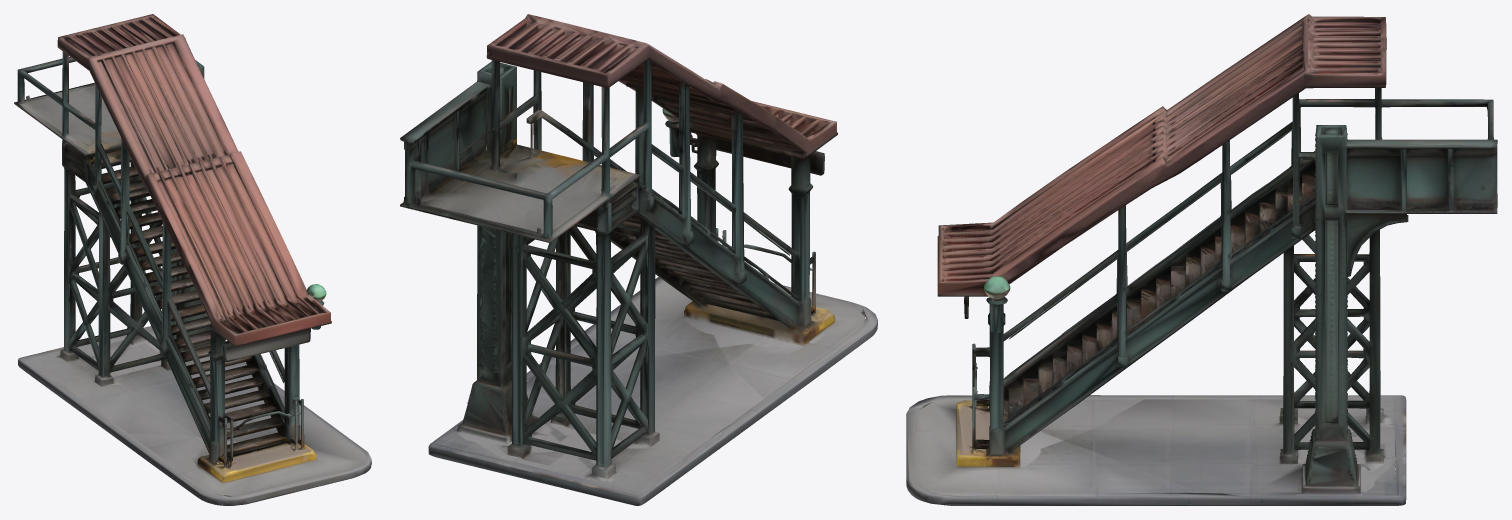
The model's file is el_street_stair.glb.
3 views of the same model, side by side, from view 1: azimuth 30°, elevation 25°; view 2: azimuth 150°, elevation 25°; view 3: azimuth 270°, elevation 25° (orthographic). The views are drawn at different scales.
Visible parts, largest first — view 1: node_0; view 2: node_0; view 3: node_0.
Part boxes in pixels (<box>): node_0: <box>14,14,371,505</box>; node_0: <box>400,14,877,505</box>; node_0: <box>906,14,1497,505</box>.
Bounding box in the file's own units: 0.3834 × 0.7143 × 0.9332.
Materials: 1 (1 with a texture image).
